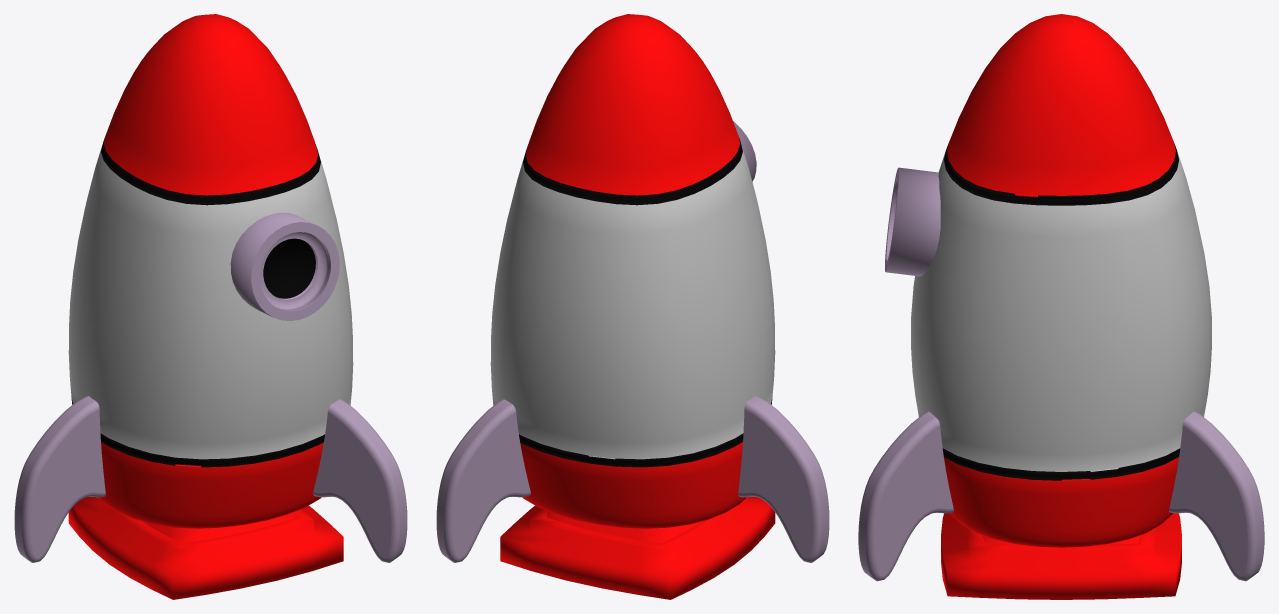
The model's file is ROCKET.fbx.
3 renders of one model, left to right at view 1: azimuth 30°, elevation 25°; view 2: azimuth 150°, elevation 25°; view 3: azimuth 270°, elevation 25°, orthographic. The views are drawn at different scales.
Parts seen in each view (by area): view 1: Cube, Cylinder, BezierCircle, BezierCircle.002; view 2: Cube, BezierCircle, BezierCircle.001; view 3: Cube, BezierCircle.001, BezierCircle.002, Cylinder.
Part boxes in pixels (left/top/right/bottom): Cube: left=68, top=14, right=353, bottom=599; Cylinder: left=230, top=212, right=339, bottom=321; BezierCircle: left=14, top=396, right=105, bottom=562; BezierCircle.002: left=313, top=399, right=407, bottom=562; Cube: left=490, top=14, right=775, bottom=599; BezierCircle: left=738, top=396, right=829, bottom=562; BezierCircle.001: left=436, top=399, right=530, bottom=562; Cube: left=911, top=14, right=1211, bottom=599; BezierCircle.001: left=1169, top=411, right=1264, bottom=581; BezierCircle.002: left=858, top=411, right=953, bottom=581; Cylinder: left=885, top=167, right=940, bottom=276.
Bounding box in the file's own units: 281 × 449 × 307.
